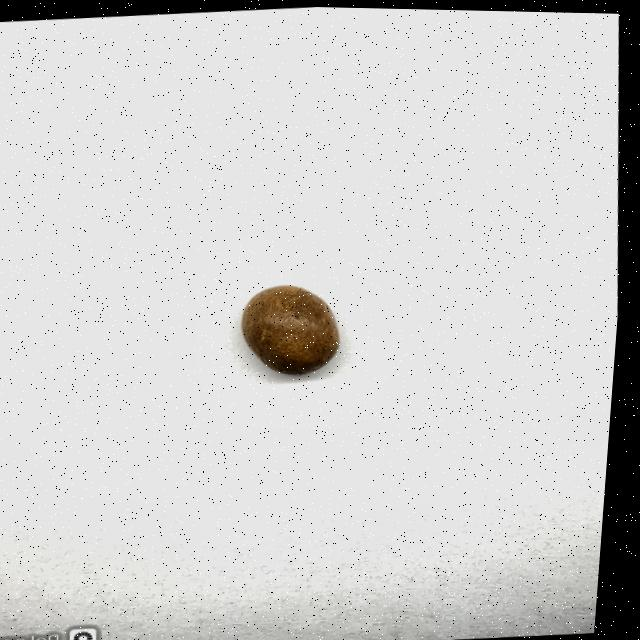Good bean: (245, 279, 346, 376)
